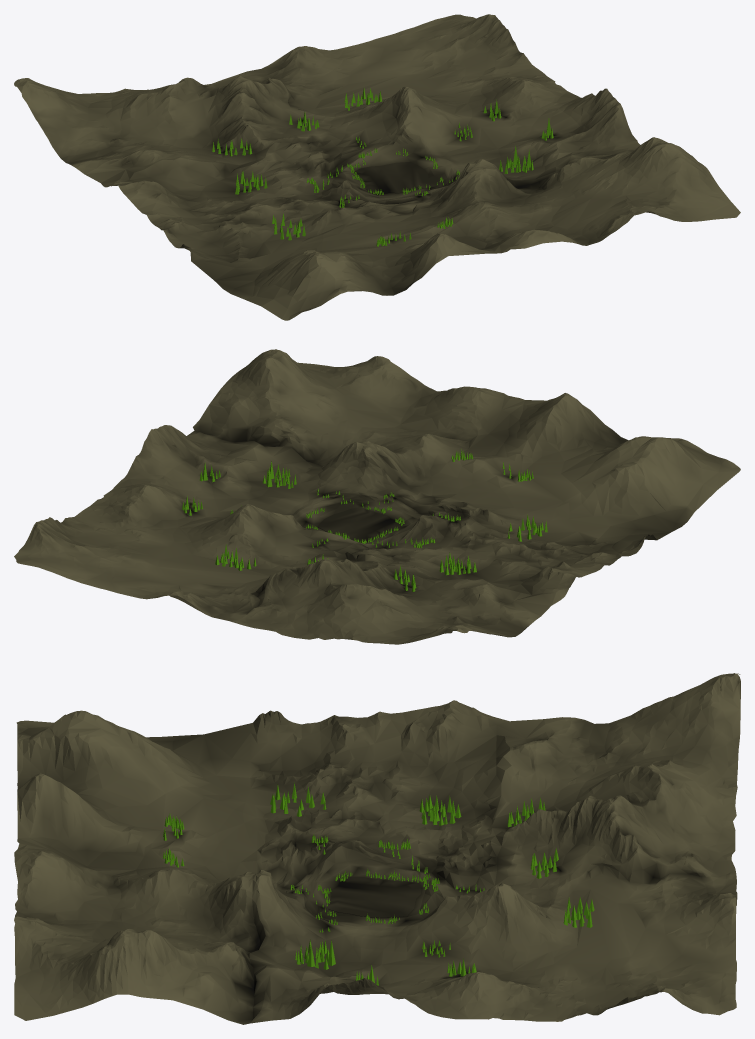
File: changdi 1.FBX
The picture shows the model from 3 angles, top to bottom: view 1: azimuth 30°, elevation 25°; view 2: azimuth 150°, elevation 25°; view 3: azimuth 270°, elevation 25°; orthographic projection. The views are drawn at different scales.
Visible parts, largest first — view 1: 对象016, 对象019, 对象015; view 2: 对象016, 对象019, 对象015; view 3: 对象016, 对象019, 对象015.
Part boxes in pixels (bbox=[...]): 对象016: bbox=[14, 14, 740, 320]; 对象019: bbox=[212, 88, 553, 246]; 对象015: bbox=[354, 162, 430, 194]; 对象016: bbox=[14, 349, 740, 644]; 对象019: bbox=[182, 449, 547, 591]; 对象015: bbox=[317, 507, 401, 542]; 对象016: bbox=[14, 673, 740, 1024]; 对象019: bbox=[162, 782, 594, 985]; 对象015: bbox=[327, 876, 421, 917].
Bounding box in the file's own units: 3037 × 402 × 3138.
